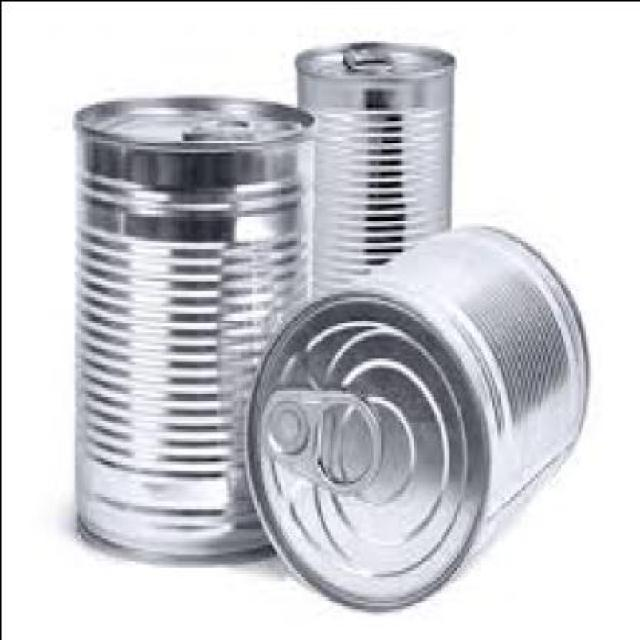METAL: (243, 218, 592, 608), (73, 90, 319, 559), (296, 35, 456, 296)
